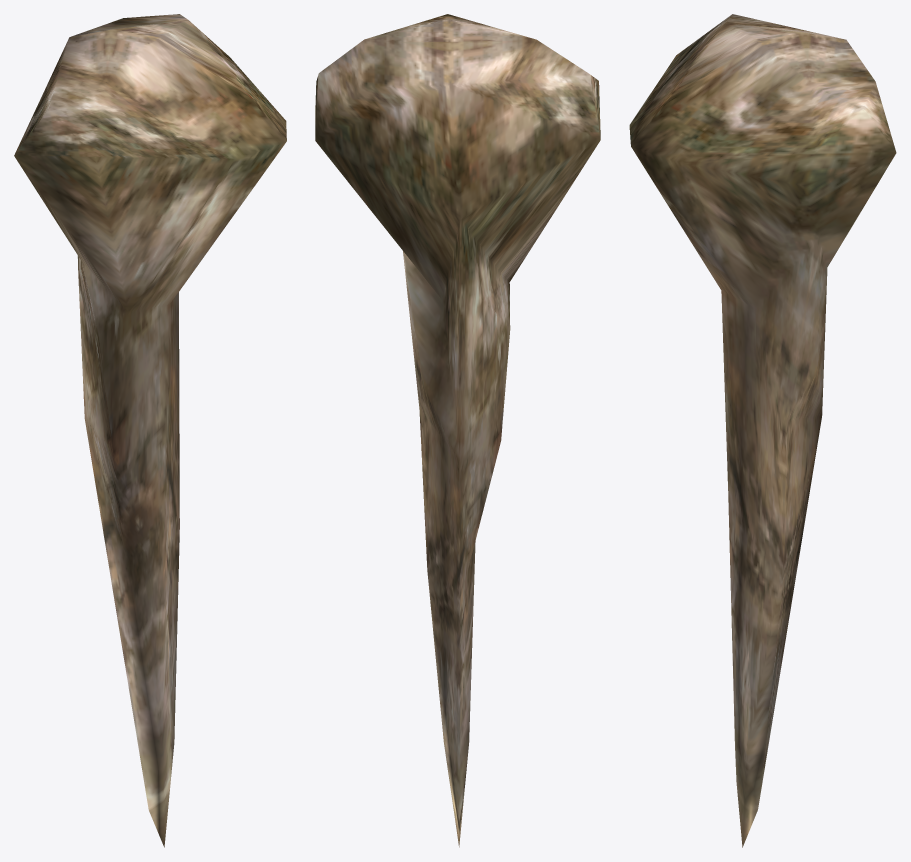
The model's file is thm_all_cave_stalagtite_a2_l0.fbx.
3 renders of one model, left to right at view 1: azimuth 30°, elevation 25°; view 2: azimuth 150°, elevation 25°; view 3: azimuth 270°, elevation 25°, orthographic. The views are drawn at different scales.
Parts seen in each view (by area): view 1: mesh_node; view 2: mesh_node; view 3: mesh_node.
Part boxes in pixels (x1=…): mesh_node: x1=14, y1=14, x2=286, y2=847; mesh_node: x1=315, y1=14, x2=600, y2=847; mesh_node: x1=629, y1=14, x2=896, y2=847.
Size of the model in its own units: 0.6292 by 1.92 by 0.5774.
